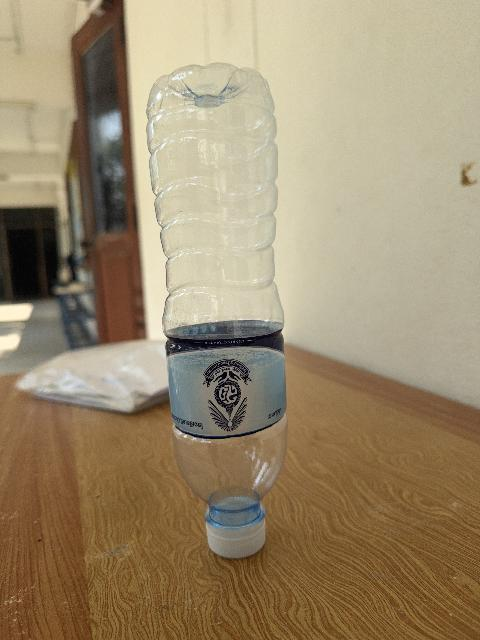bottle: (148, 64, 287, 557)
